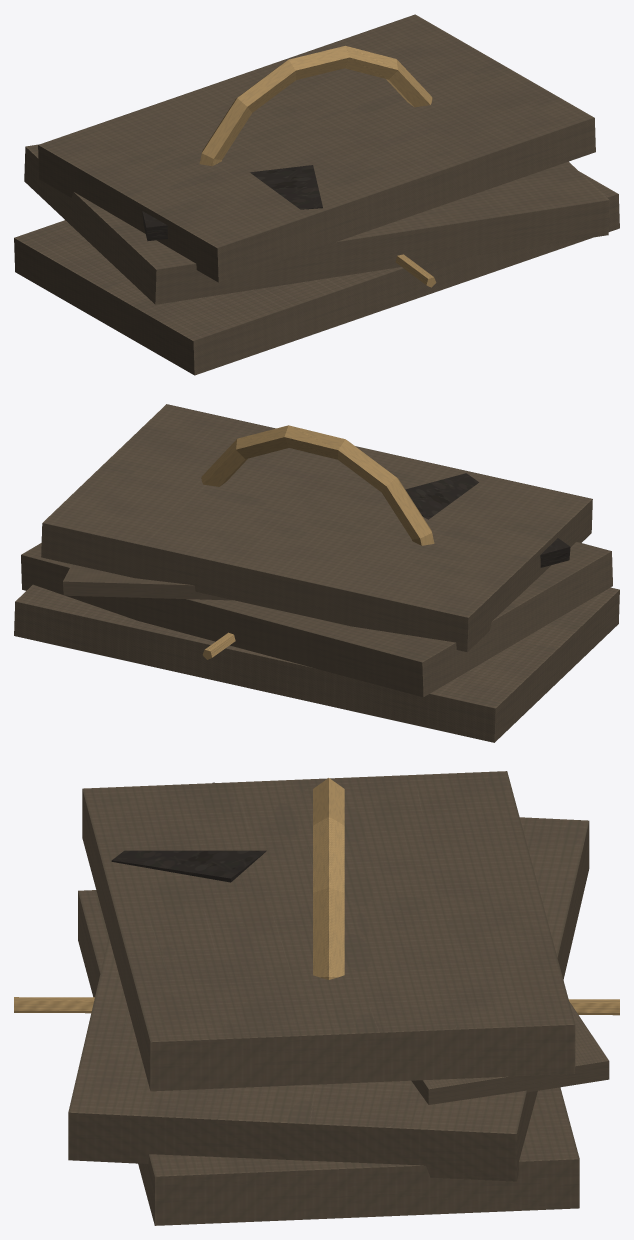
The model's file is pr-013_cloth_bundle__small.obj.
The picture shows the model from 3 angles, top to bottom: view 1: azimuth 30°, elevation 25°; view 2: azimuth 150°, elevation 25°; view 3: azimuth 270°, elevation 25°; orthographic projection. The views are drawn at different scales.
Parts seen in each view (by area): view 1: pr-013_cloth_bundle__small; view 2: pr-013_cloth_bundle__small; view 3: pr-013_cloth_bundle__small.
Part boxes in pixels (x1,y1,x2,y2): pr-013_cloth_bundle__small: (14,14,619,375); pr-013_cloth_bundle__small: (14,404,619,742); pr-013_cloth_bundle__small: (14,771,619,1225).
Size of the model in its own units: 0.4503 by 0.2331 by 0.3507.
Materials: 3 (3 with a texture image).
